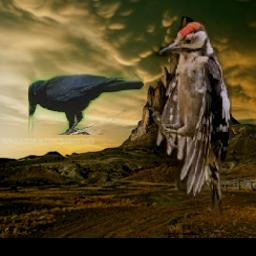Crow: (28, 73, 144, 135)
Woodpecker: (148, 23, 231, 216)
